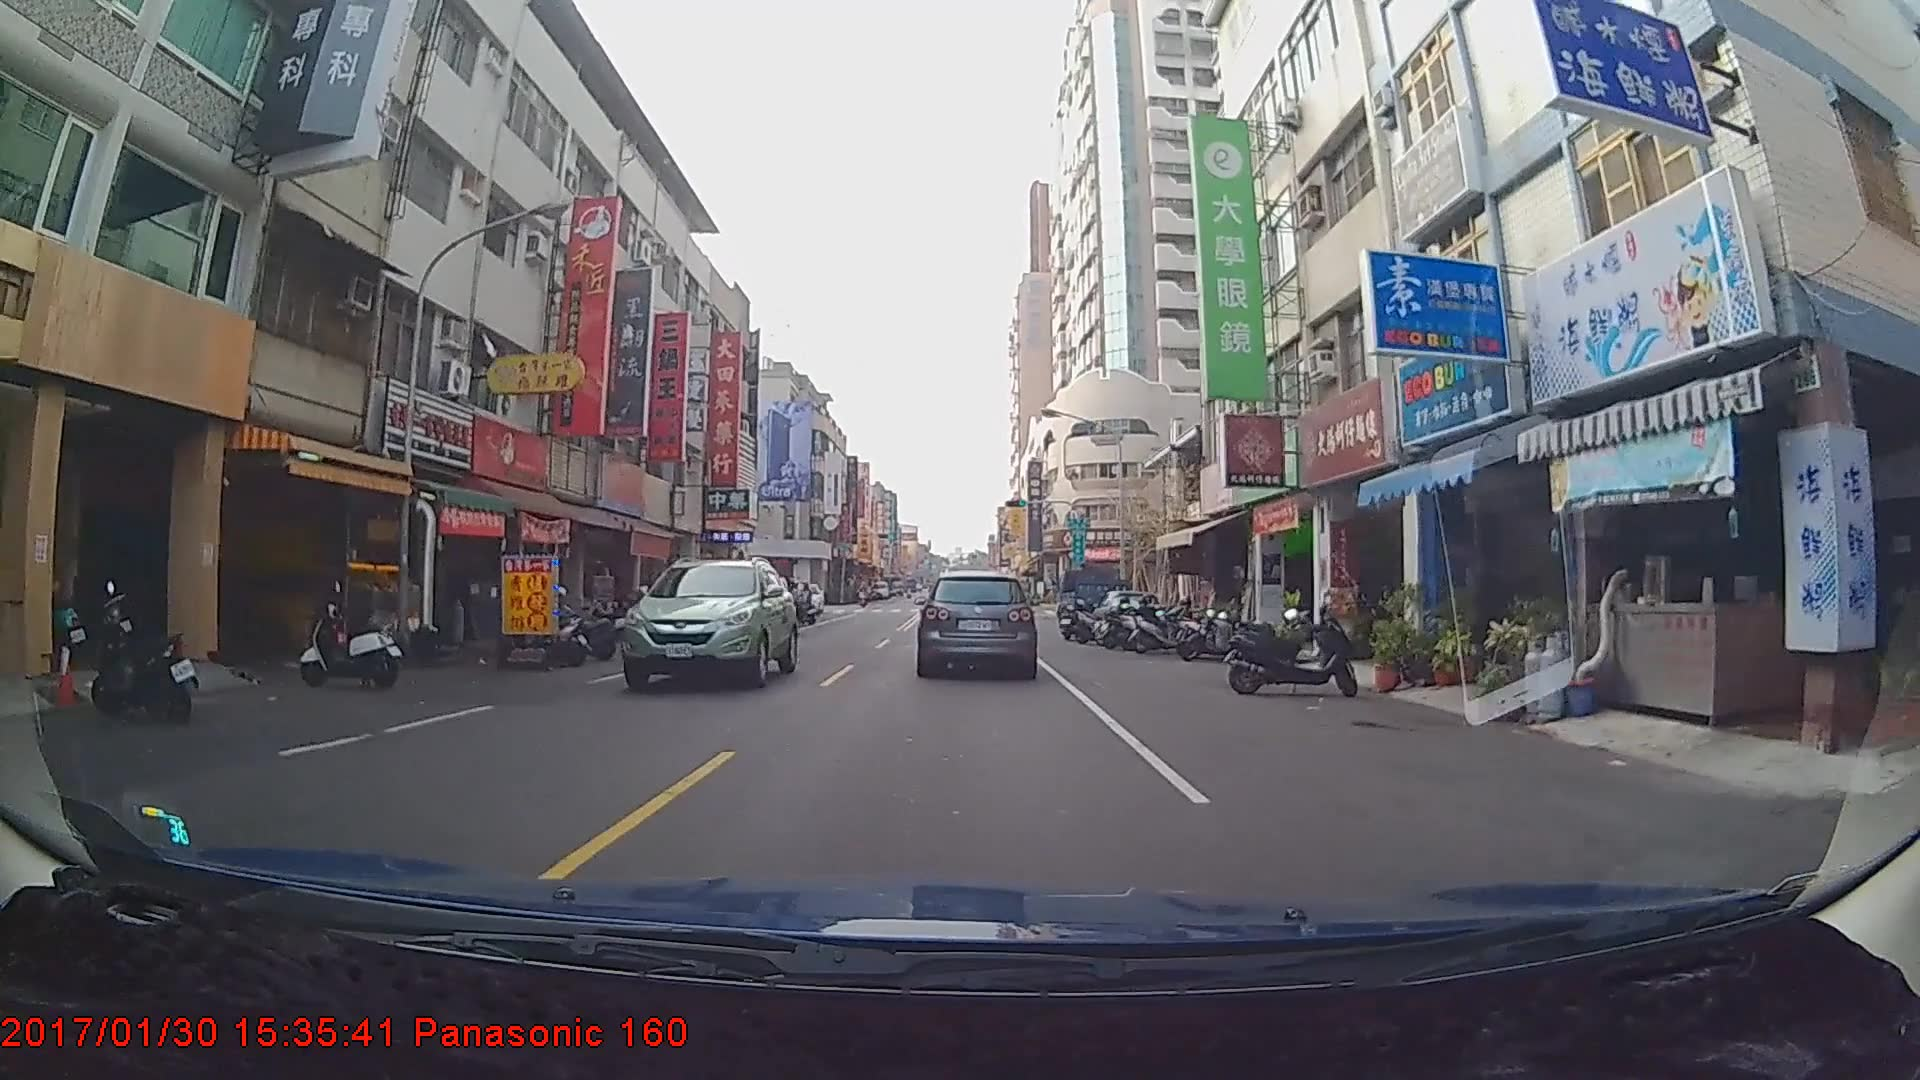vehicle: (620, 555, 796, 688), (920, 568, 1035, 676), (1059, 568, 1135, 633)
